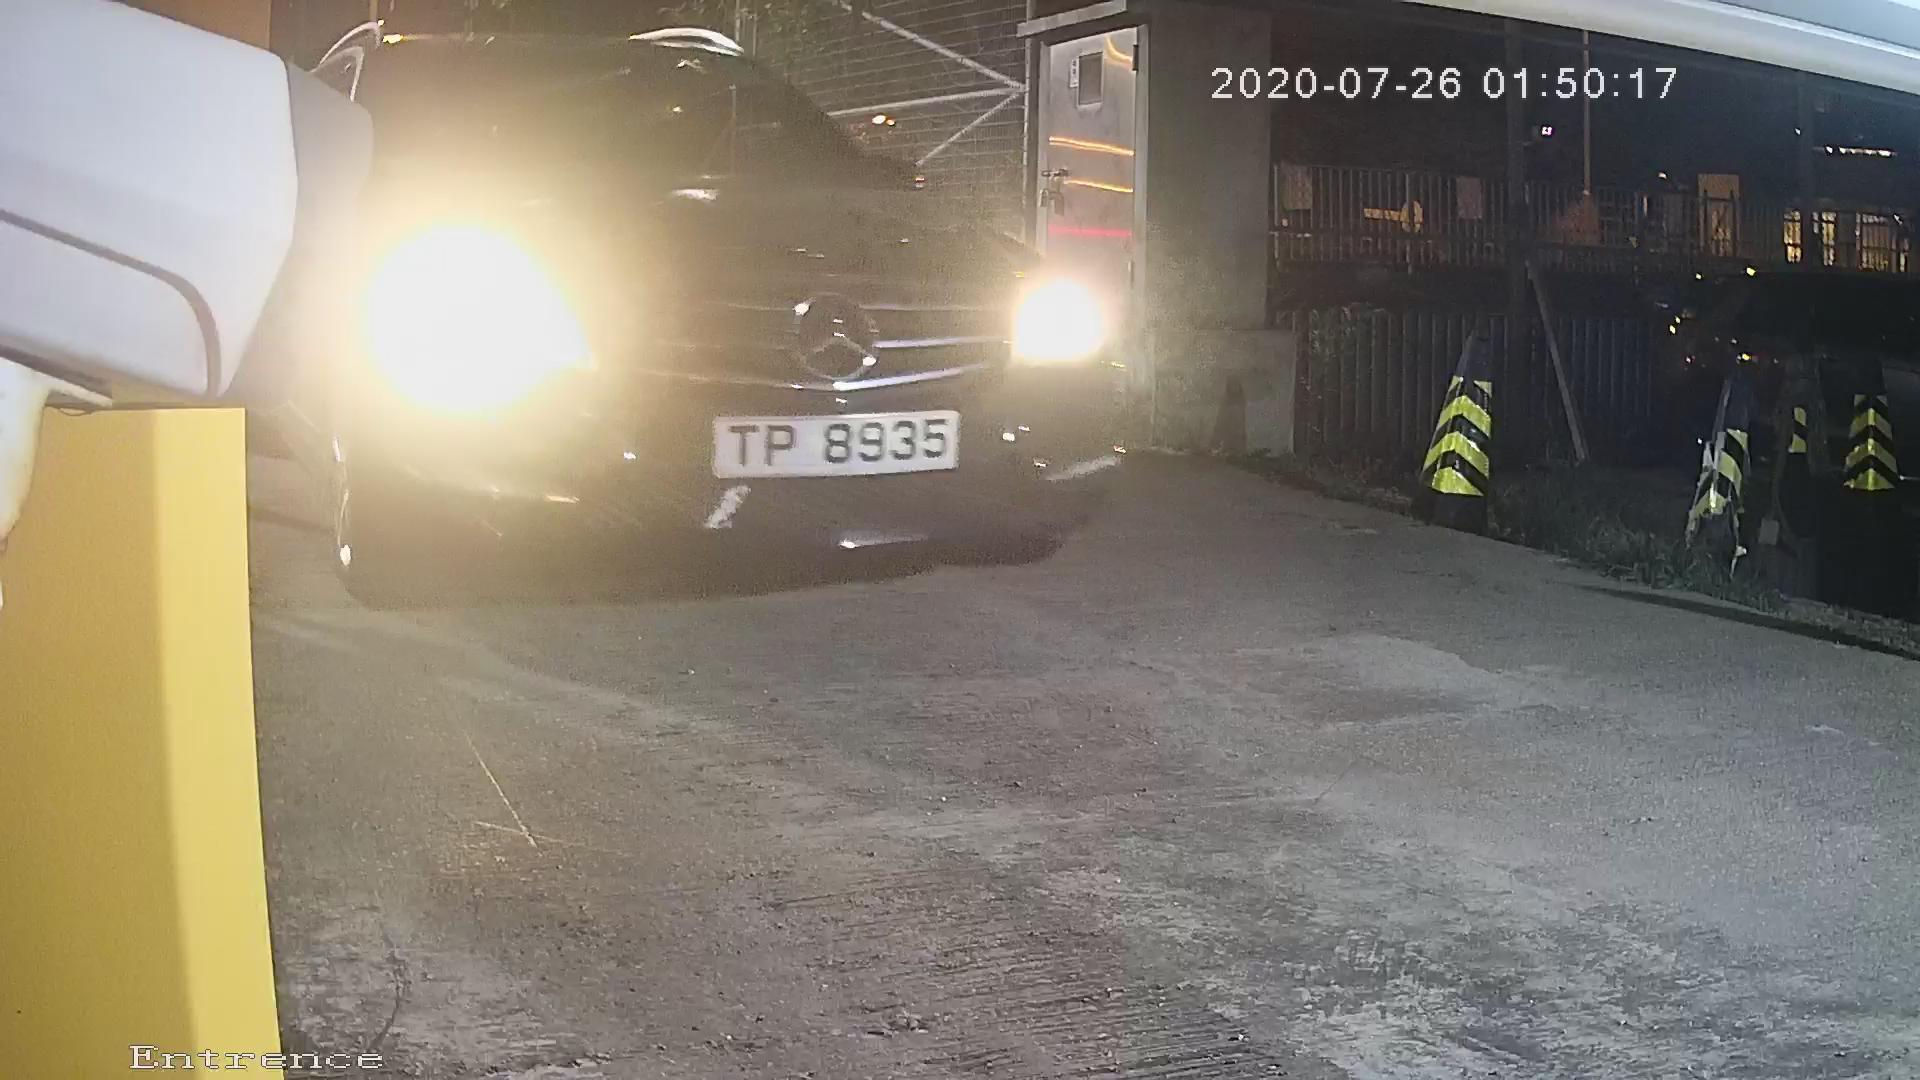privatecar: (223, 11, 1244, 637)
